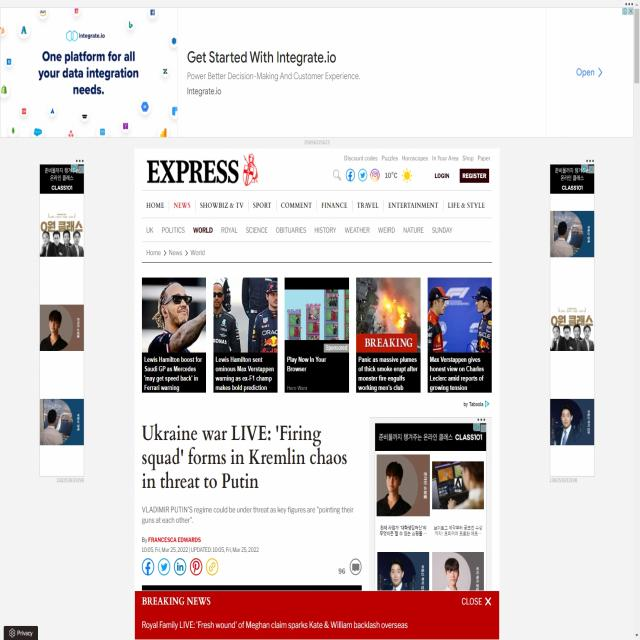menu-bar: (329, 163, 492, 189)
menu-panel: (140, 188, 495, 239)
